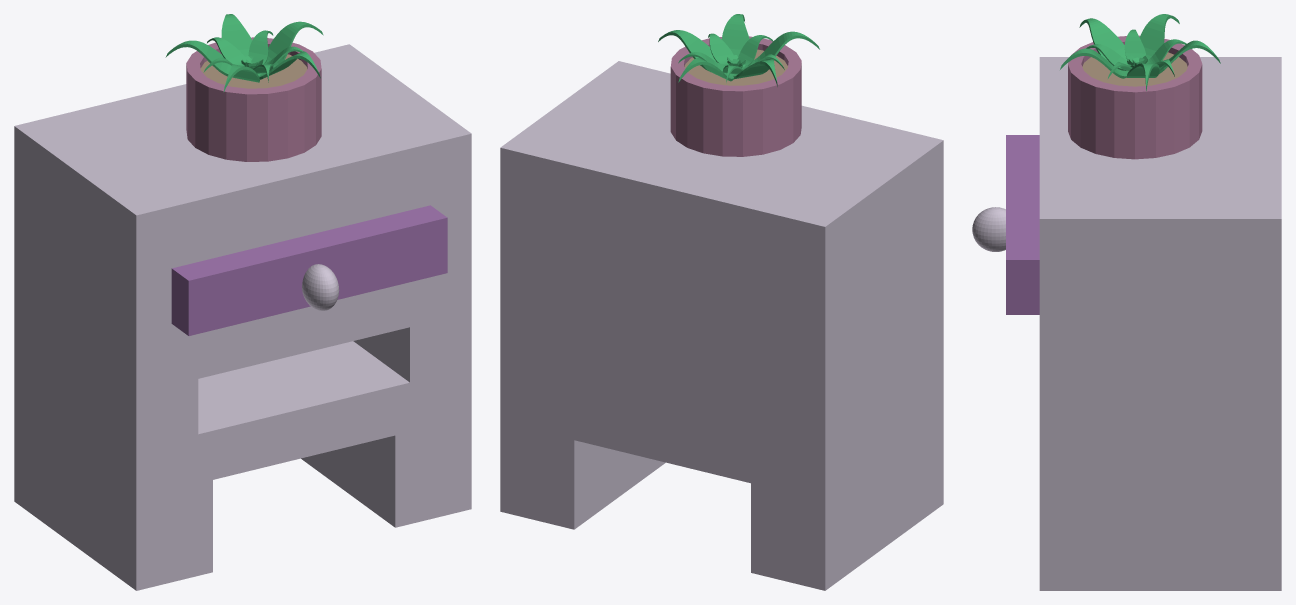
Rendered from DESK.glb.
The picture shows the model from 3 angles, left to right: view 1: azimuth 30°, elevation 25°; view 2: azimuth 150°, elevation 25°; view 3: azimuth 270°, elevation 25°; orthographic projection. The views are drawn at different scales.
Parts seen in each view (by area): view 1: Mesh_Mesh_head_geo.001_lambert2SG.001; view 2: Mesh_Mesh_head_geo.001_lambert2SG.001; view 3: Mesh_Mesh_head_geo.001_lambert2SG.001.
Boxes of the visible parts, x1=… form: Mesh_Mesh_head_geo.001_lambert2SG.001: x1=14, y1=14, x2=471, y2=590; Mesh_Mesh_head_geo.001_lambert2SG.001: x1=500, y1=14, x2=943, y2=590; Mesh_Mesh_head_geo.001_lambert2SG.001: x1=972, y1=14, x2=1281, y2=590.
Bounding box in the file's own units: 57 × 77 × 46.
